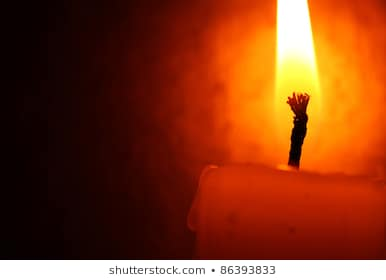Fire: (271, 1, 326, 133)
